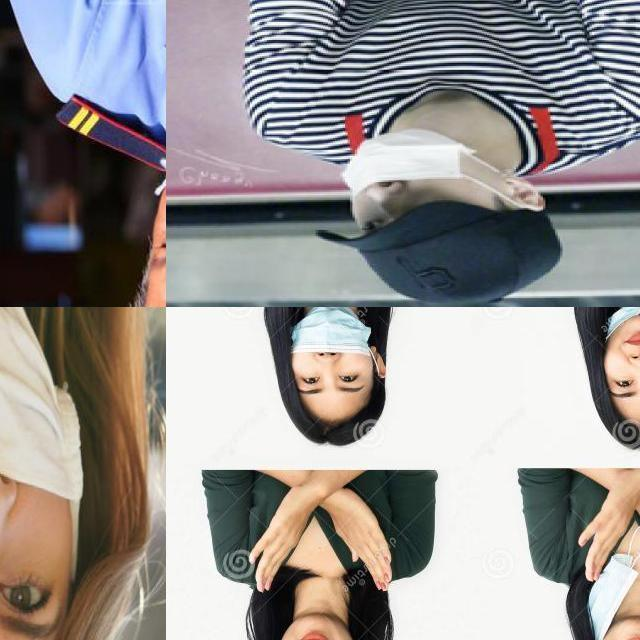hairnet: (0, 307, 89, 639), (340, 126, 526, 229), (283, 306, 374, 401), (603, 307, 639, 400)
no_apron: (325, 488, 402, 598), (242, 481, 314, 597), (574, 467, 635, 590)
